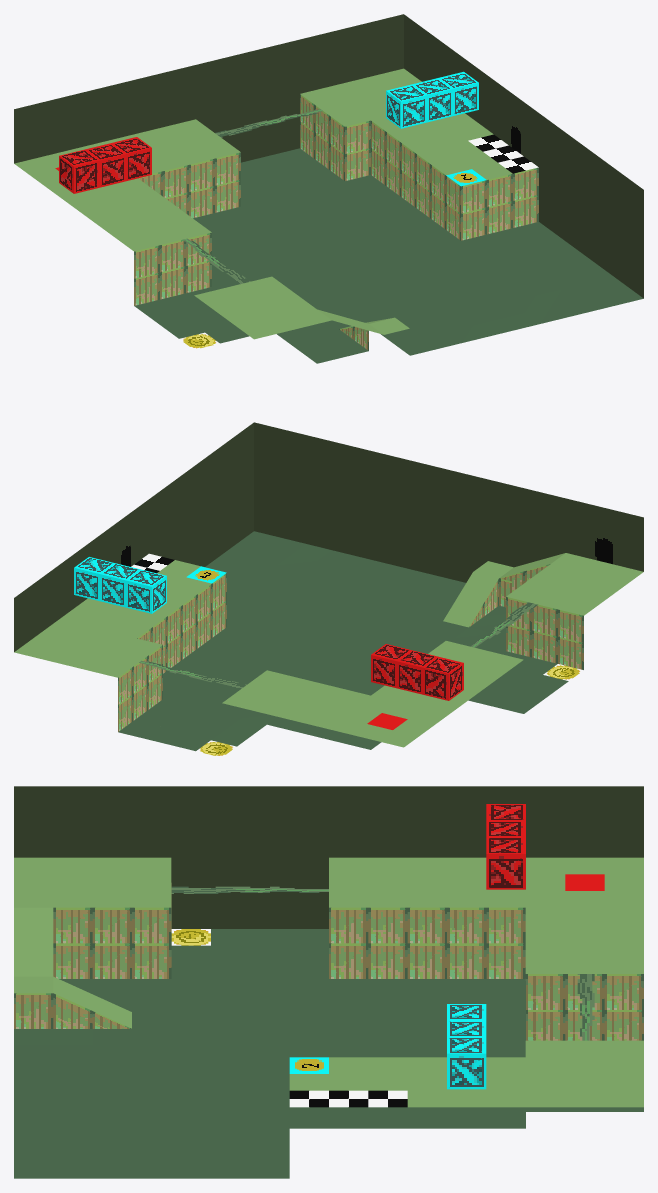
File: LevelTwoLayout.gltf
3 views of the same model, one above another, from view 1: azimuth 30°, elevation 25°; view 2: azimuth 150°, elevation 25°; view 3: azimuth 270°, elevation 25° (orthographic). The views are drawn at different scales.
Size of the model in its own units: 15 by 4.5 by 16.
4 materials, 4 textured.
